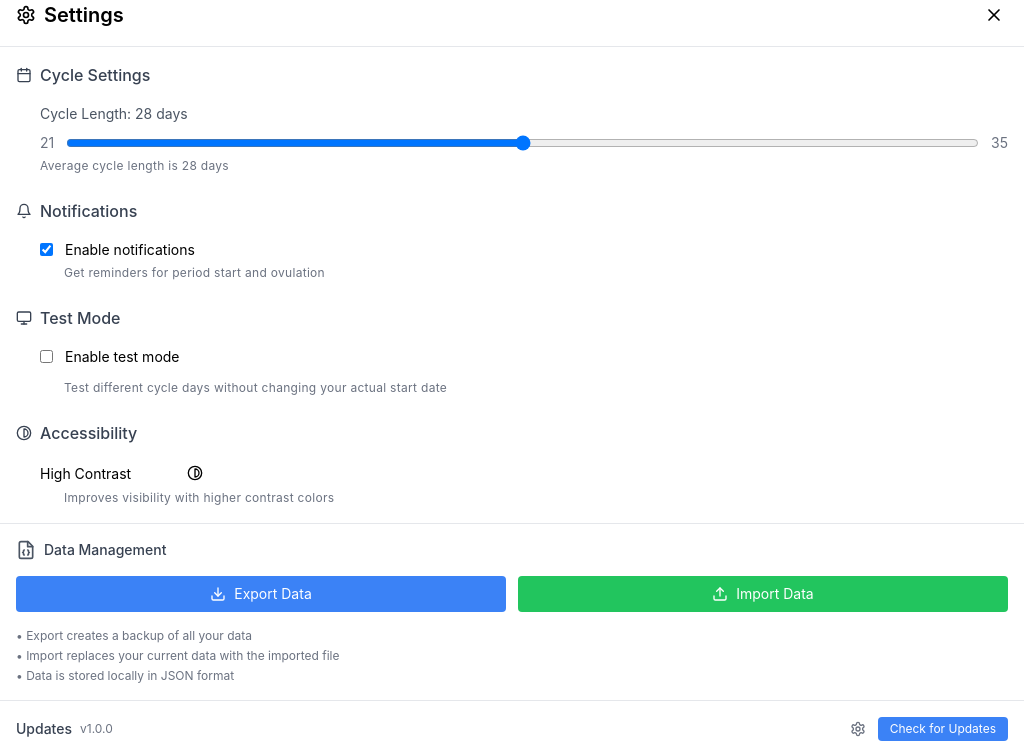
it: SettingsPanel › resets changes when reset button is clicked
Note: Change cycle length
Set the slider to "30": x=651, y=142 x1=66 y1=134 x2=979 y2=150
(page scrolled)
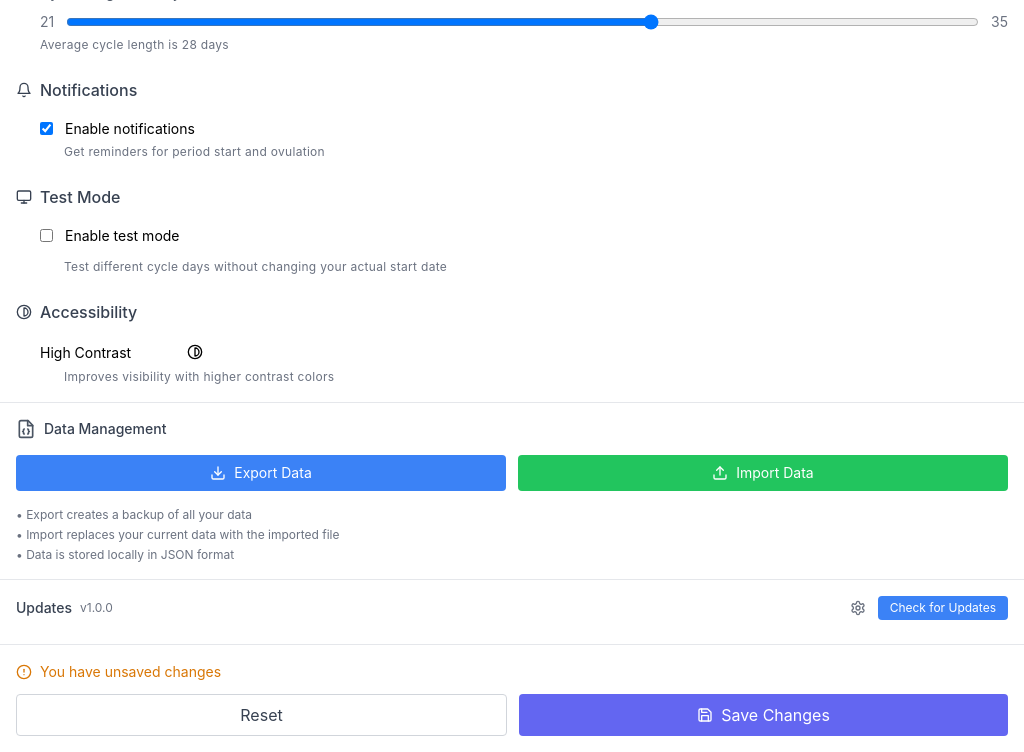
Note: Click reset
Click the button "Reset": x=262, y=715 x1=16 y1=694 x2=507 y2=736
(page scrolled)
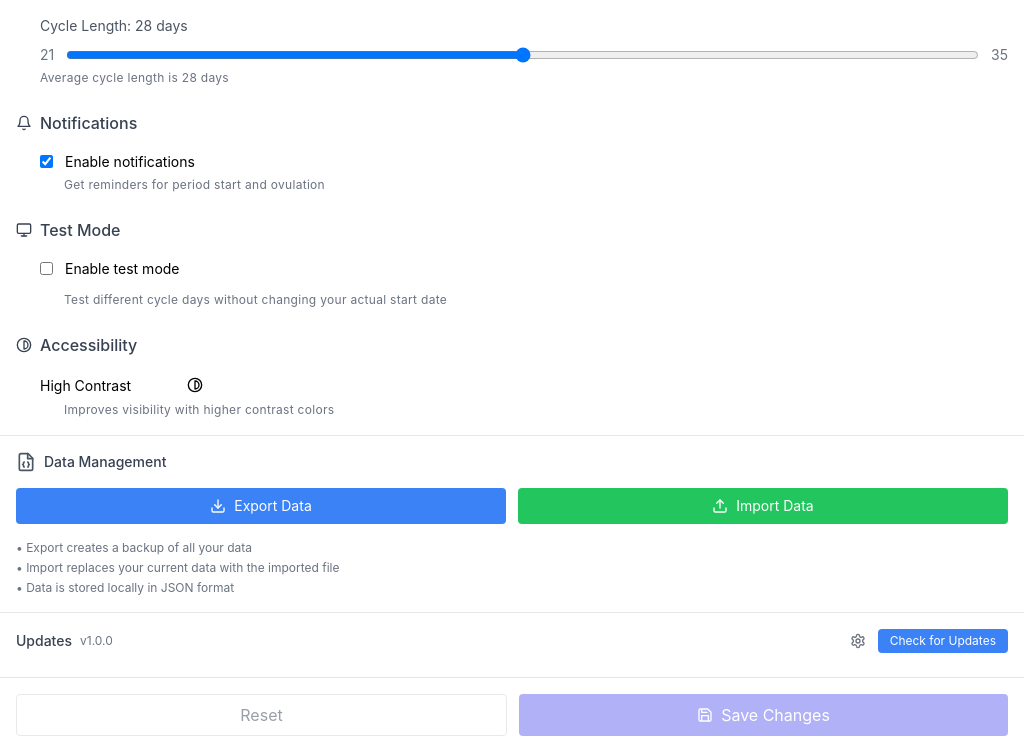
Check: the text "Cycle Length: 28 days" is shown, box x1=40 y1=15 x2=188 y2=36
